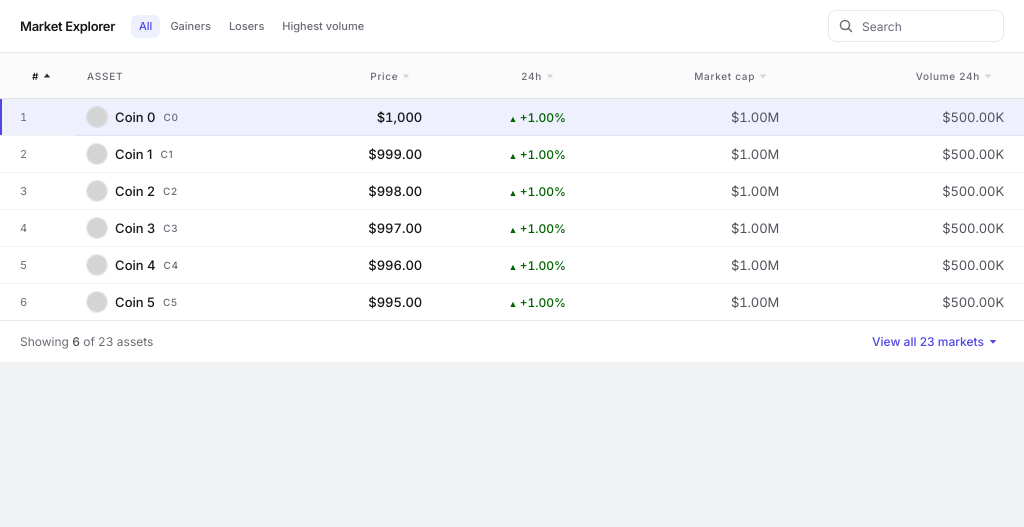
market explorer preview › collapses back to the preview
The width and height of the screenshot is (1024, 527).
What coordinates should you click on to do the following:
click the button "View all 23 markets"
I would click on:
 (935, 342)
Its box is x1=866 y1=329 x2=1004 y2=354.
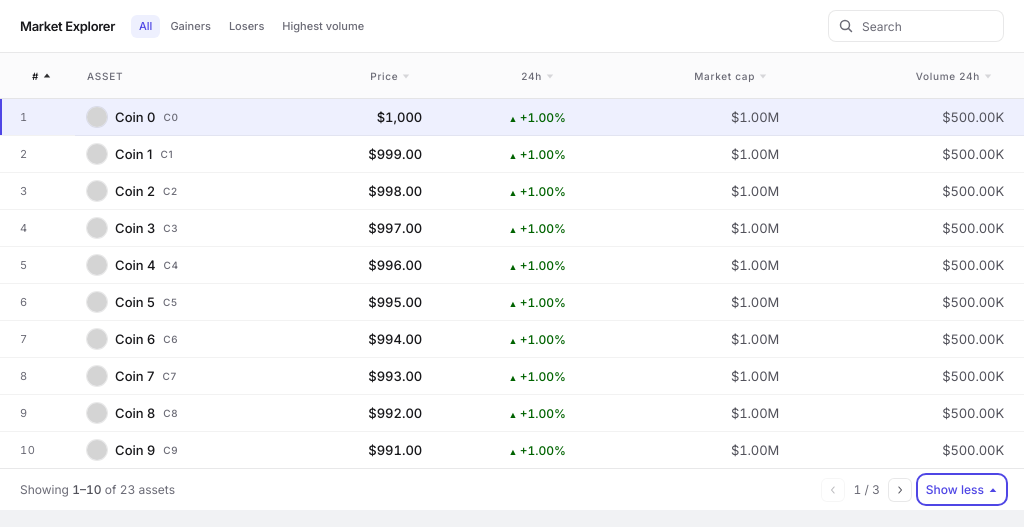
What coordinates should you click on to do the following:
click the button "Show less"
I would click on:
 (962, 490)
Its box is x1=920 y1=477 x2=1004 y2=502.
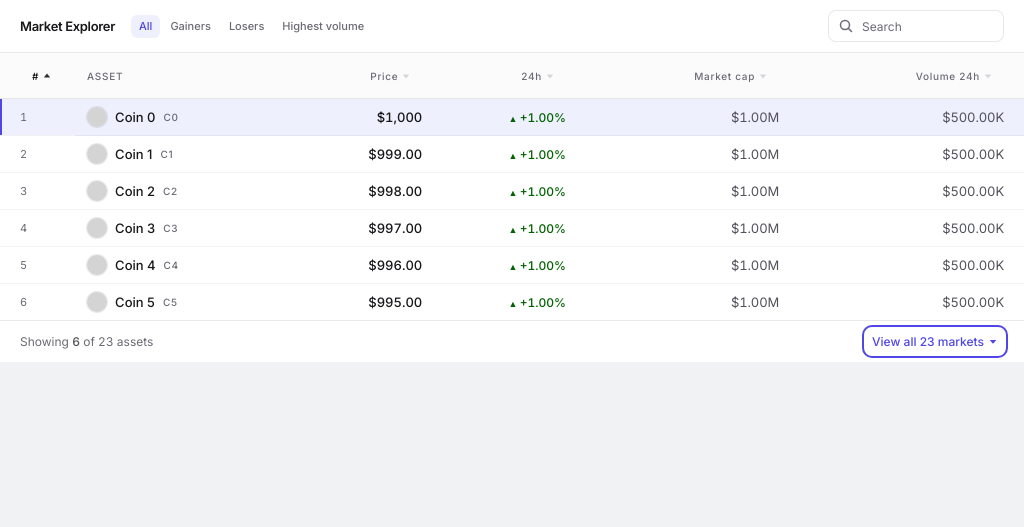
Expected: the navigation bar "pagination" is gone
